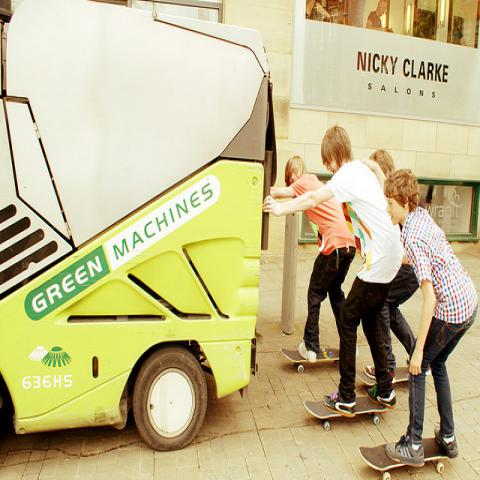truck: (2, 1, 279, 432)
